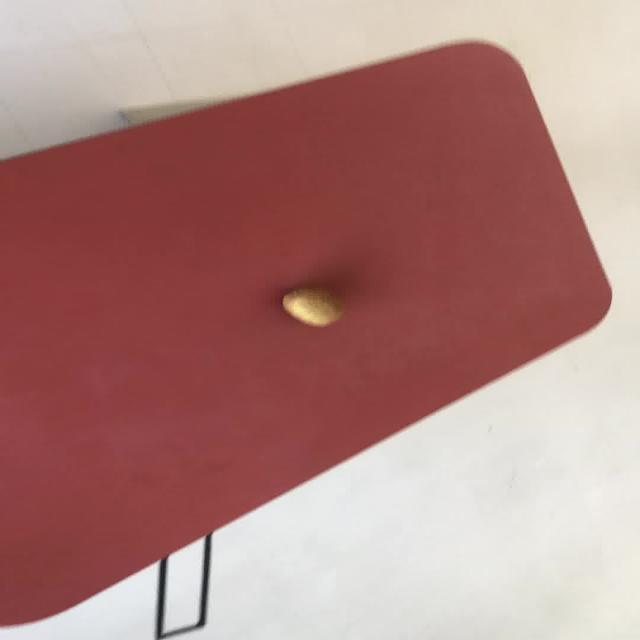kiwi: (280, 288, 342, 327)
